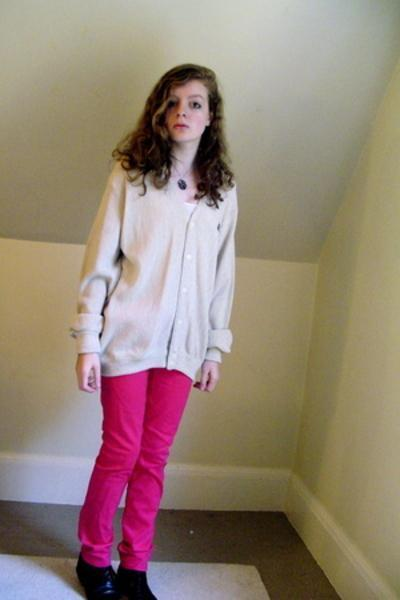jacket: (80, 169, 237, 395)
pants: (78, 367, 192, 571)
shoe: (101, 564, 131, 599)
